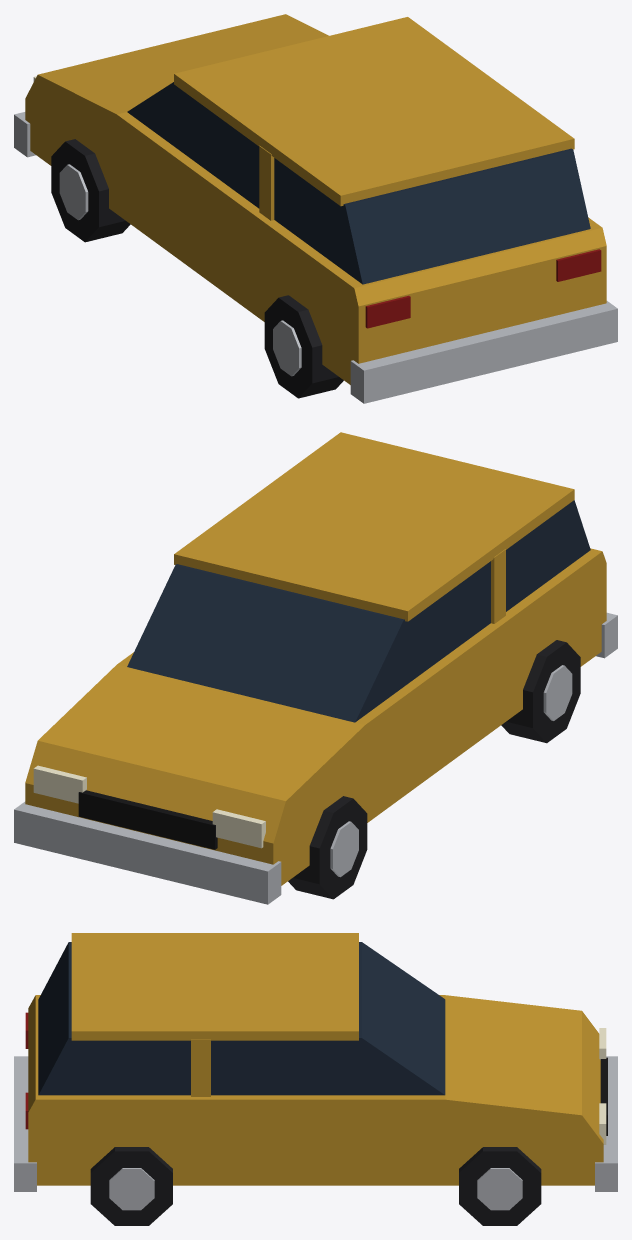
File: CarHatchMustard.obj
The picture shows the model from 3 angles, top to bottom: view 1: azimuth 30°, elevation 25°; view 2: azimuth 150°, elevation 25°; view 3: azimuth 270°, elevation 25°; orthographic projection. The views are drawn at different scales.
Visible parts, largest first — view 1: CarHatchMustard; view 2: CarHatchMustard; view 3: CarHatchMustard.
Boxes of the visible parts, x1,y1,x2,y2 form: CarHatchMustard: (14, 14, 617, 403); CarHatchMustard: (14, 432, 617, 904); CarHatchMustard: (14, 933, 617, 1225).
Bounding box in the file's own units: 1.89 × 1.44 × 4.2.
Materials: 1 (1 with a texture image).
